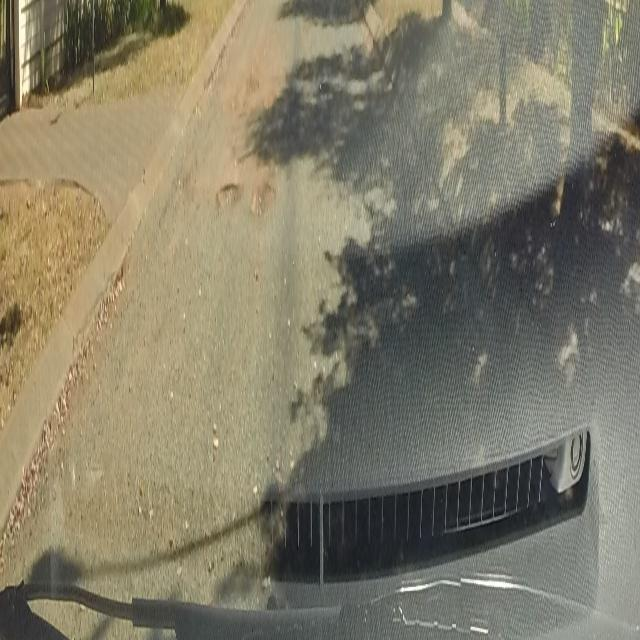pothole: (250, 176, 276, 220), (215, 178, 241, 210), (237, 76, 260, 100)
